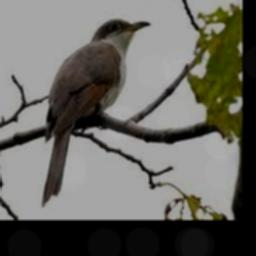Cuckoo: (42, 19, 151, 207)
